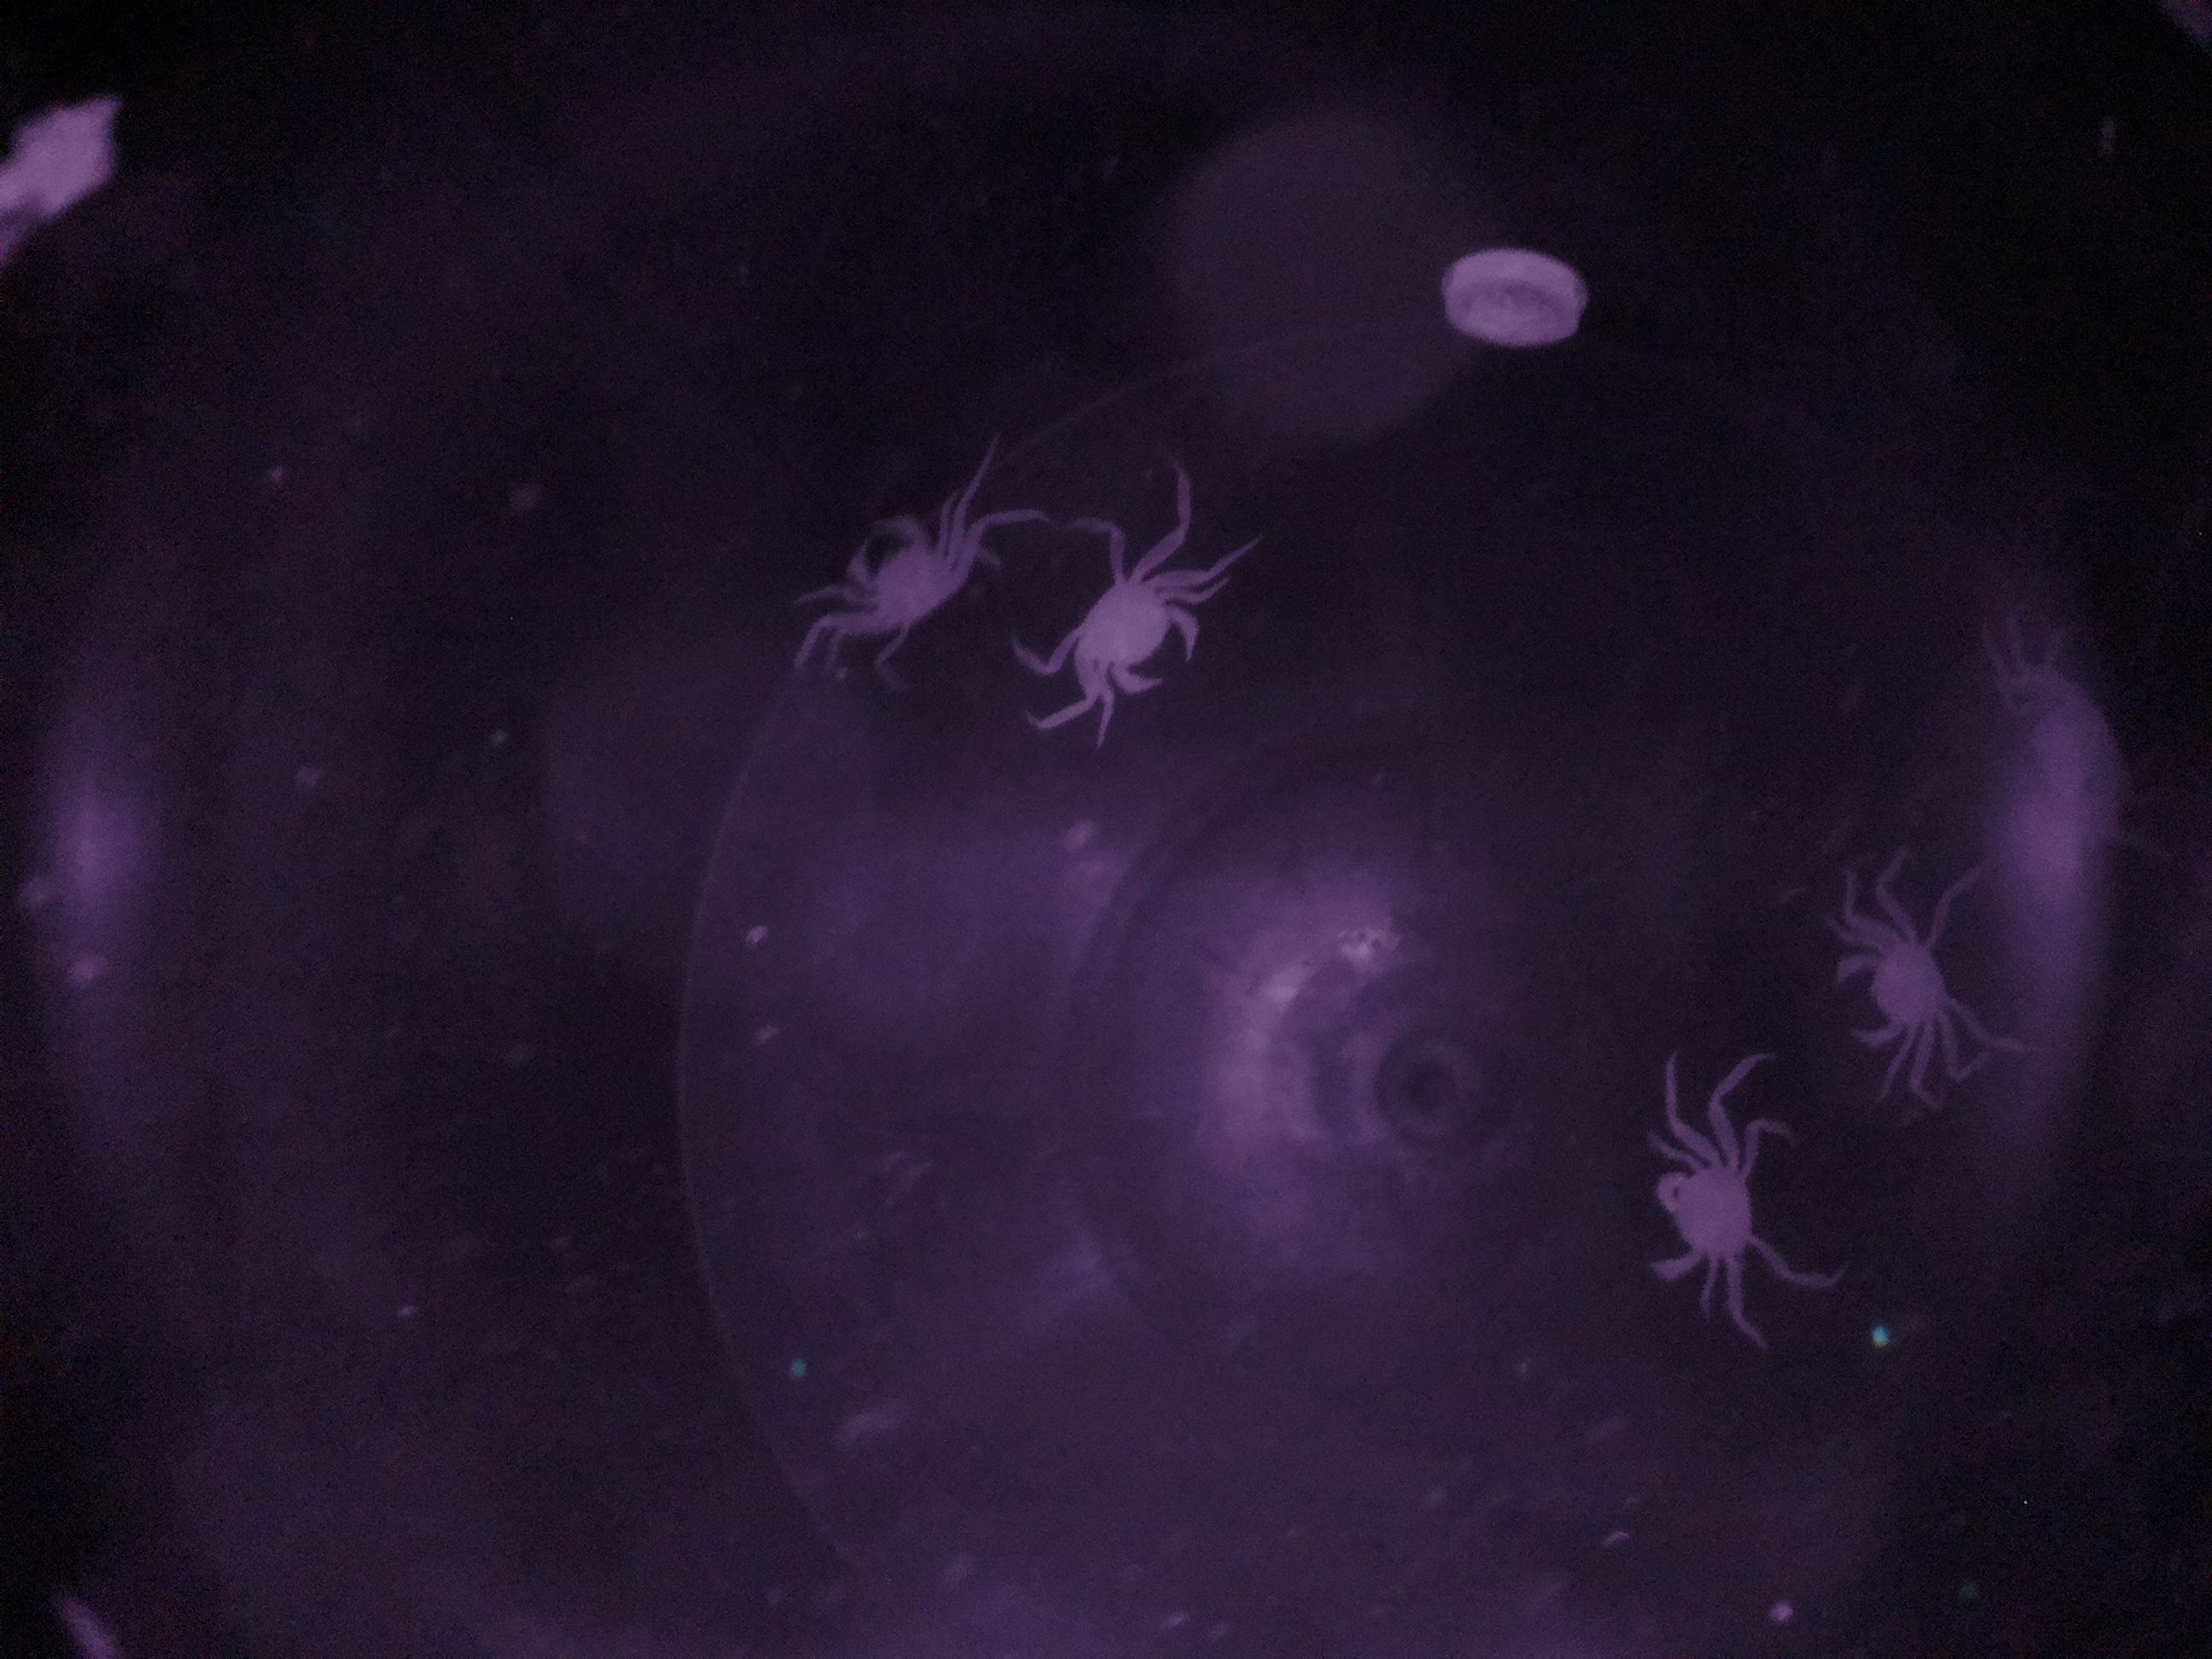Crab: (1632, 1100, 1787, 1319), (1050, 538, 1223, 728), (815, 490, 1001, 650), (1818, 906, 1979, 1063)
